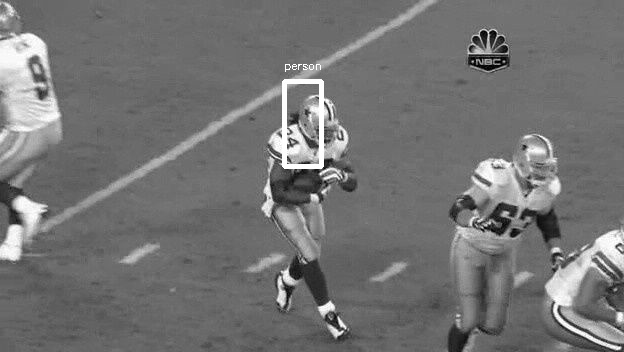person: (300, 95, 337, 143), (299, 95, 336, 143), (301, 95, 338, 143), (300, 94, 337, 142), (300, 96, 337, 144)
target_negative: (432, 7, 542, 247), (280, 70, 510, 136), (481, 170, 581, 258), (446, 240, 502, 338), (27, 230, 99, 259), (587, 107, 594, 192)
